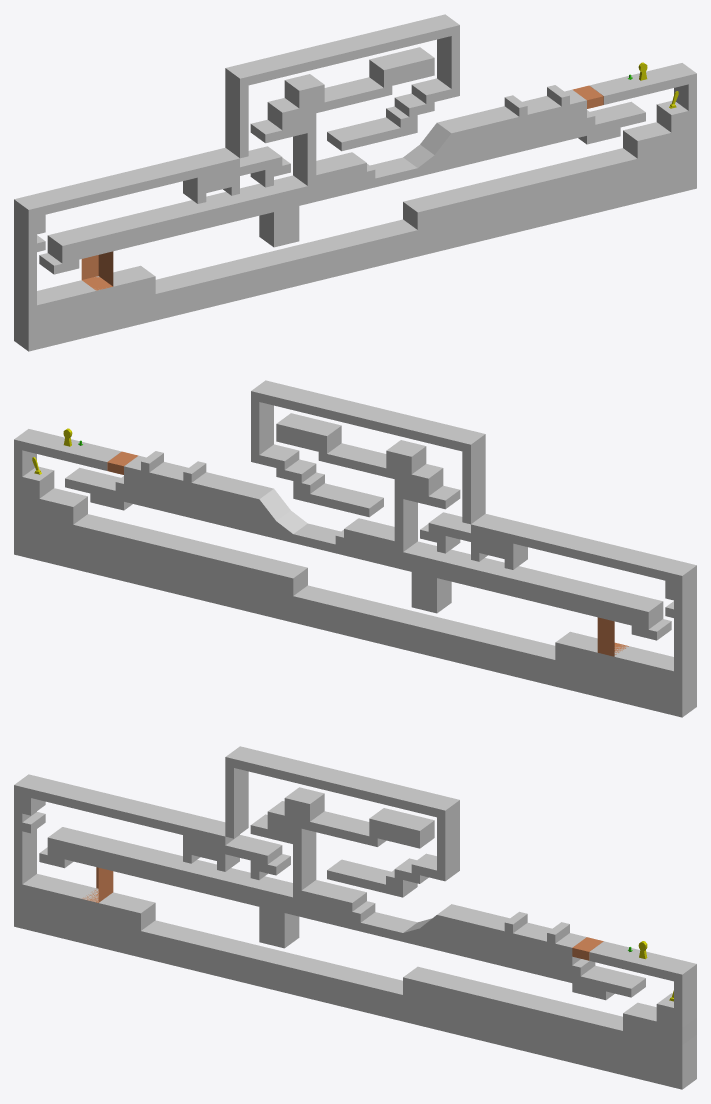
Rendered from Level_1.fbx.
The picture shows the model from 3 angles, top to bottom: view 1: azimuth 30°, elevation 25°; view 2: azimuth 150°, elevation 25°; view 3: azimuth 330°, elevation 25°; orthographic projection.
Visible parts, largest first — view 1: Level_1, Breakables_lv 1; view 2: Level_1, Breakables_lv 1; view 3: Level_1, Breakables_lv 1.
Boxes of the visible parts, bbox=[...] form: Level_1: bbox=[14, 14, 696, 351]; Breakables_lv 1: bbox=[81, 85, 603, 290]; Level_1: bbox=[14, 380, 696, 717]; Breakables_lv 1: bbox=[107, 451, 628, 656]; Level_1: bbox=[14, 746, 696, 1089]; Breakables_lv 1: bbox=[82, 867, 603, 960].
Bounding box in the file's own units: 79.02 × 25 × 3.
